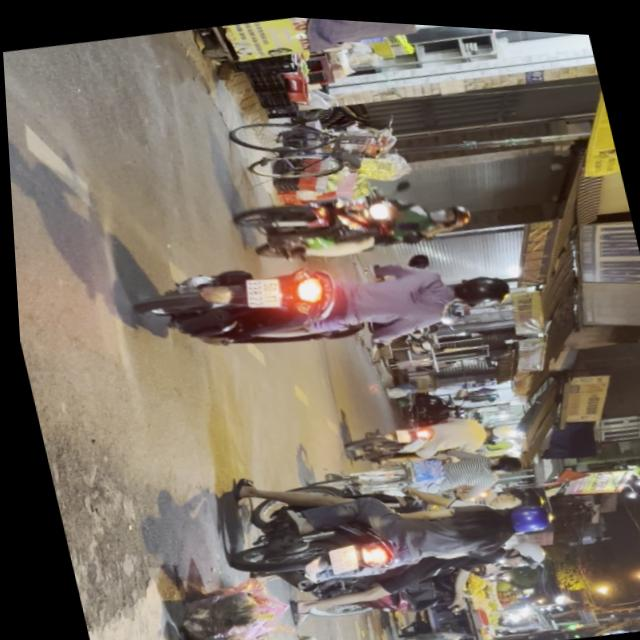helmet: (442, 261, 509, 305), (492, 492, 548, 531), (492, 529, 543, 567), (425, 194, 471, 225)
licenseplate: (112, 210, 519, 387), (202, 425, 564, 622), (226, 159, 478, 276)
nohelmet: (239, 270, 281, 308), (321, 540, 353, 569)
